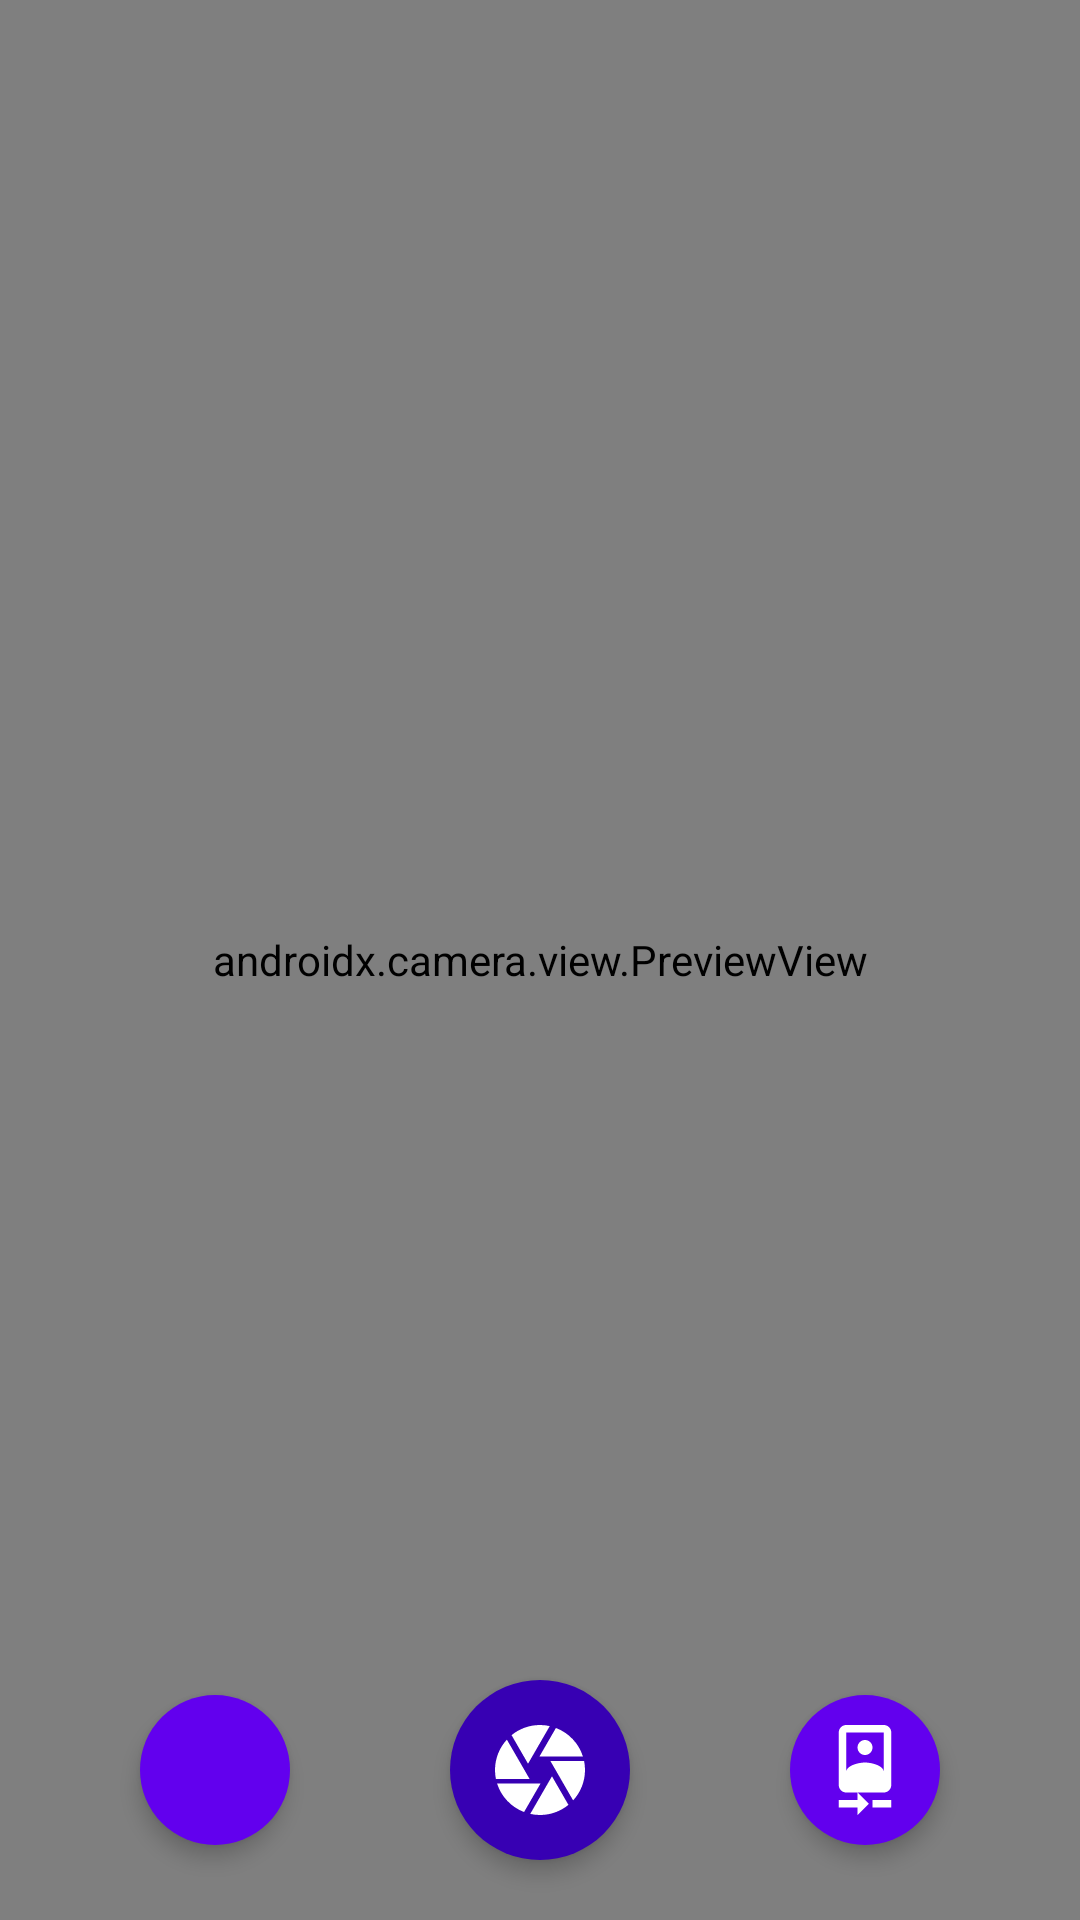

Locate icon controls on the screen. Image size 1080w x 1920h, boxes as box(x1, y1, x2, y2).
camera front: box(790, 1695, 940, 1845)
